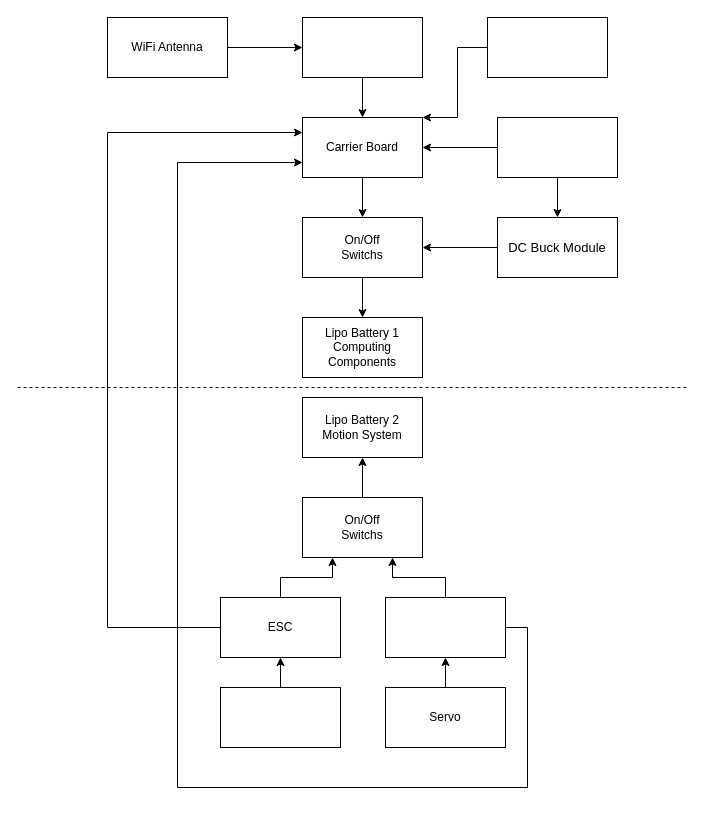
Image size: 706x813. Some labels were removed from this diagram. The centre of each missing label's shape, as x and y in pixels:
Azure Kinect DK: (557,147)
Controller USB: (547,47)
Jetson: (362,47)
Motor (Hall Sensor?): (280,717)
Servo Controller: (445,627)
